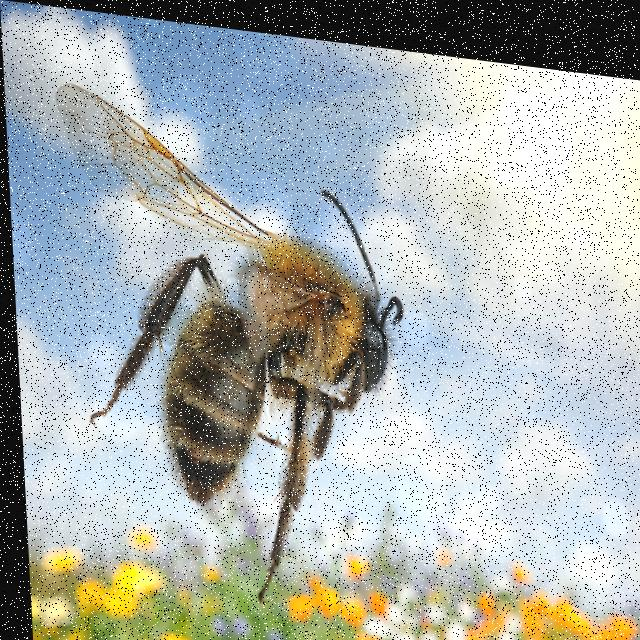Apis-mellifera-scutellata: (49, 66, 427, 604)
